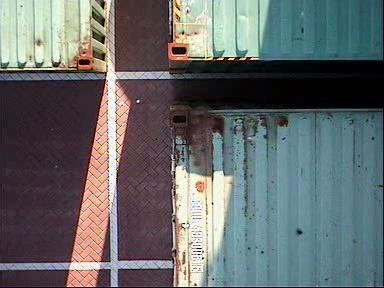groundmarker_2: (193, 34, 242, 113), (195, 241, 225, 288)
